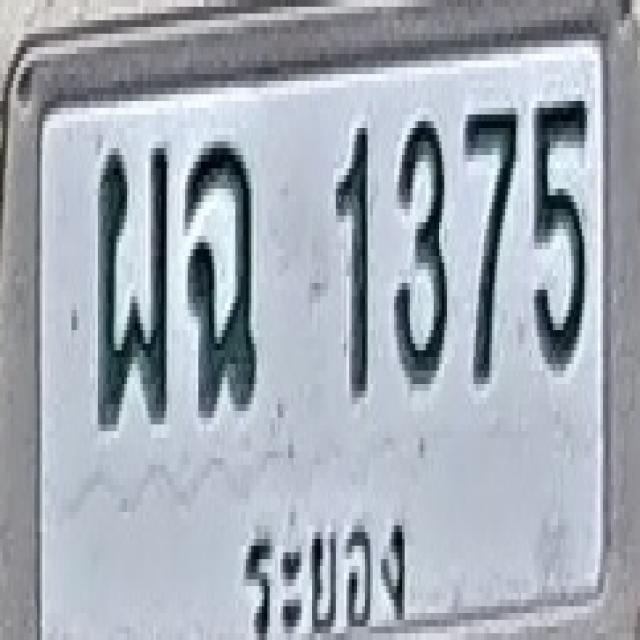1: (334, 121, 369, 398)
3: (394, 115, 447, 384)
5: (532, 94, 587, 370)
7: (463, 101, 518, 384)
A09: (184, 138, 258, 414)
A28: (95, 142, 169, 424)
RYG: (231, 505, 422, 640)
